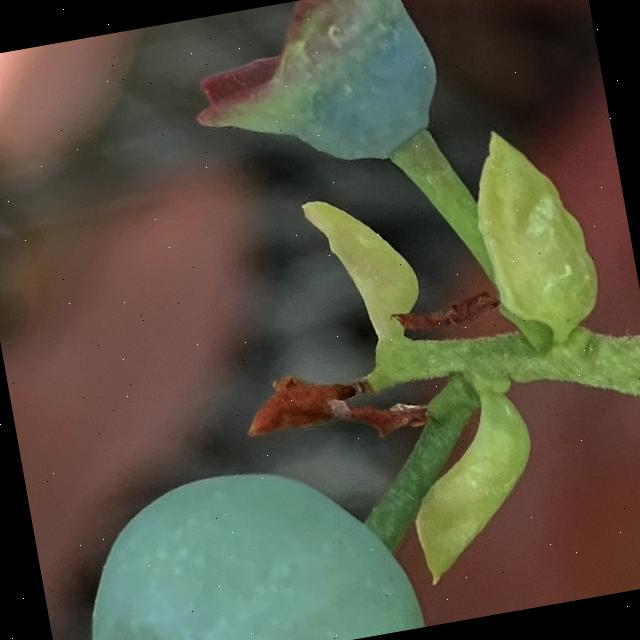Blueberries: (26, 434, 431, 640)
